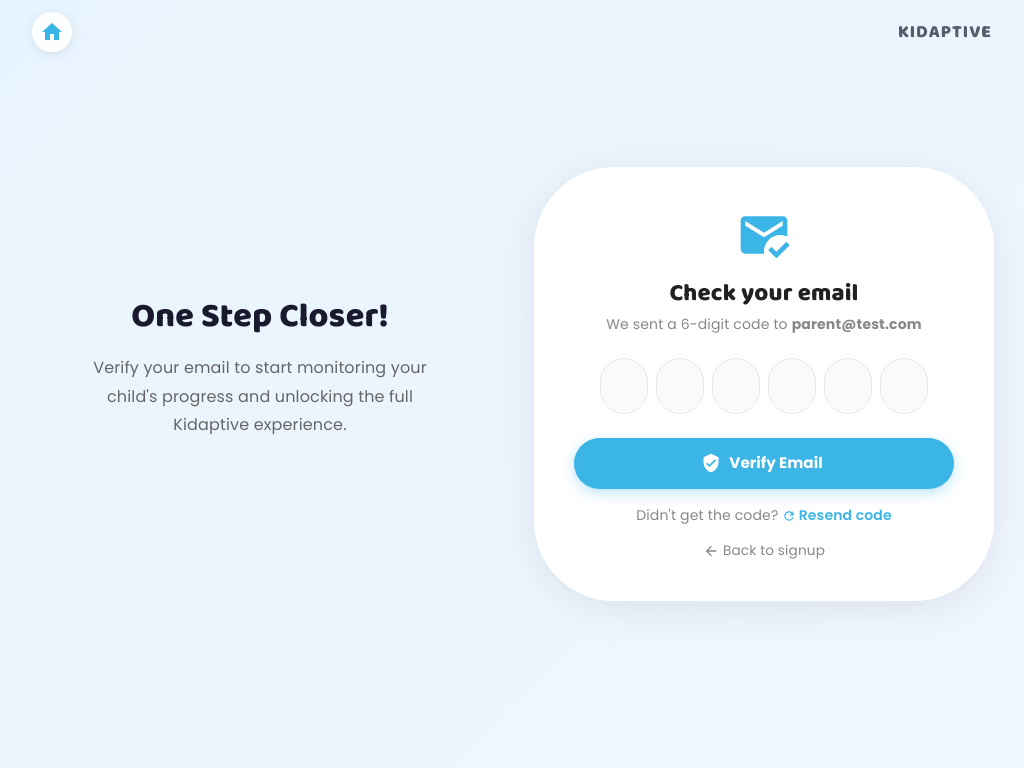
it: VerifyEmailPage › shows remaining attempts when OTP is wrong
Type "9" into the 1st field.
click(624, 386); type("9")  # box [600,358,648,414]
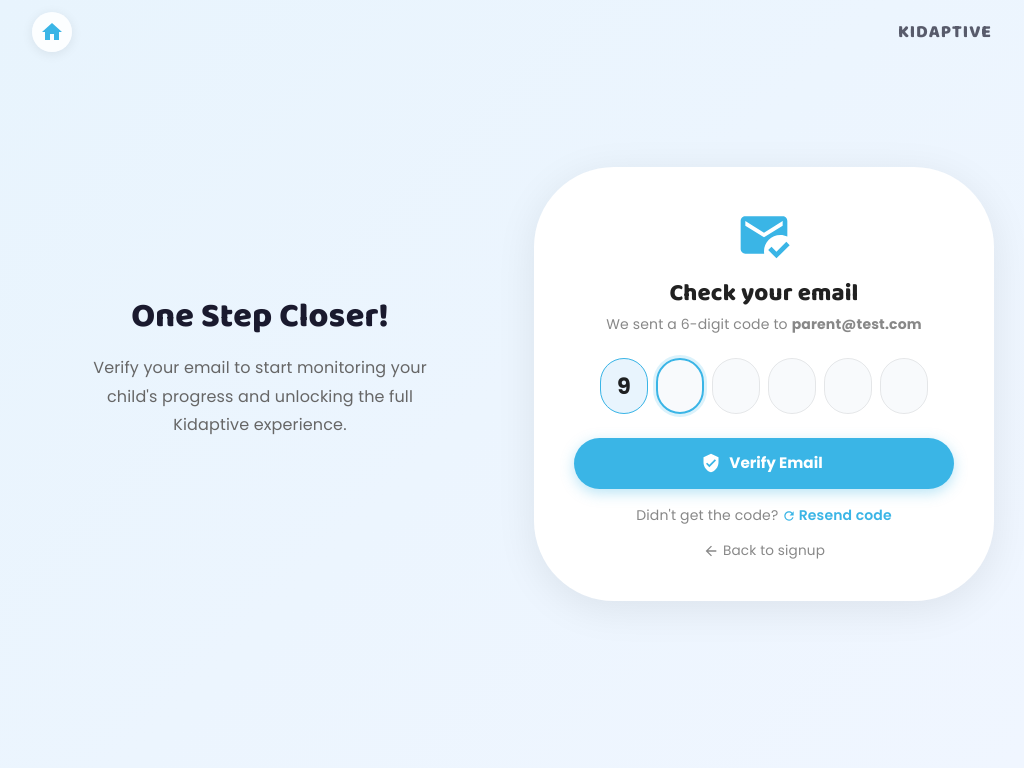
Type "9" into the 2nd field.
click(680, 386); type("9")  # box [656,358,704,414]
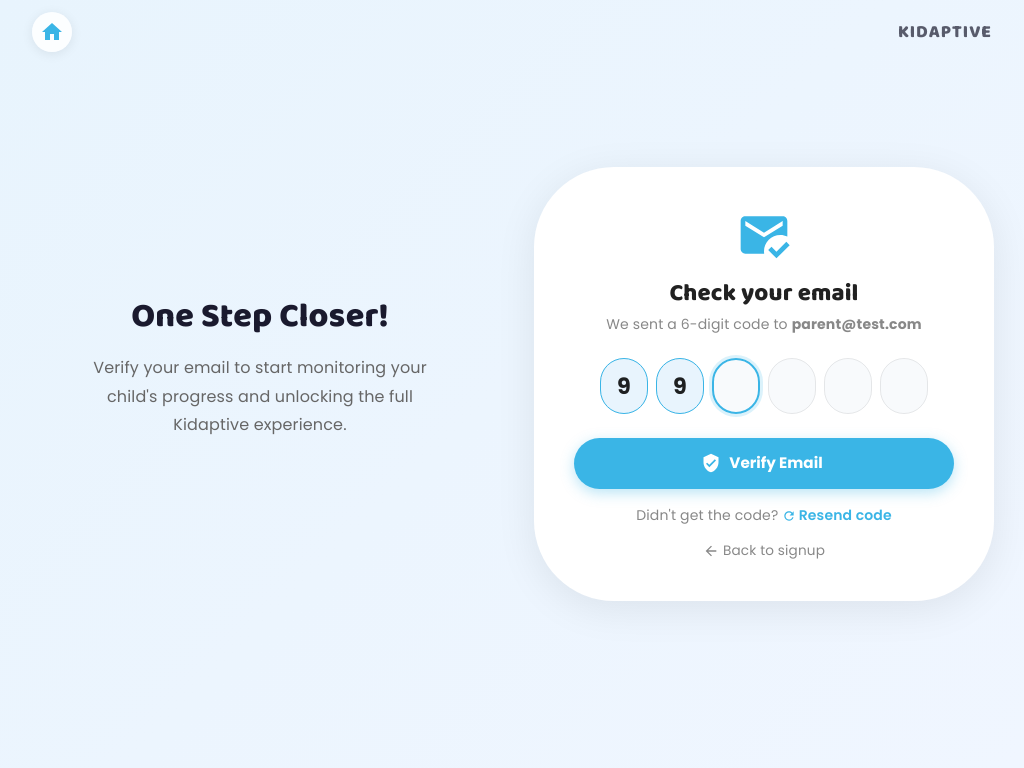
Type "9" into the 3rd field.
click(736, 386); type("9")  # box [712,358,760,414]
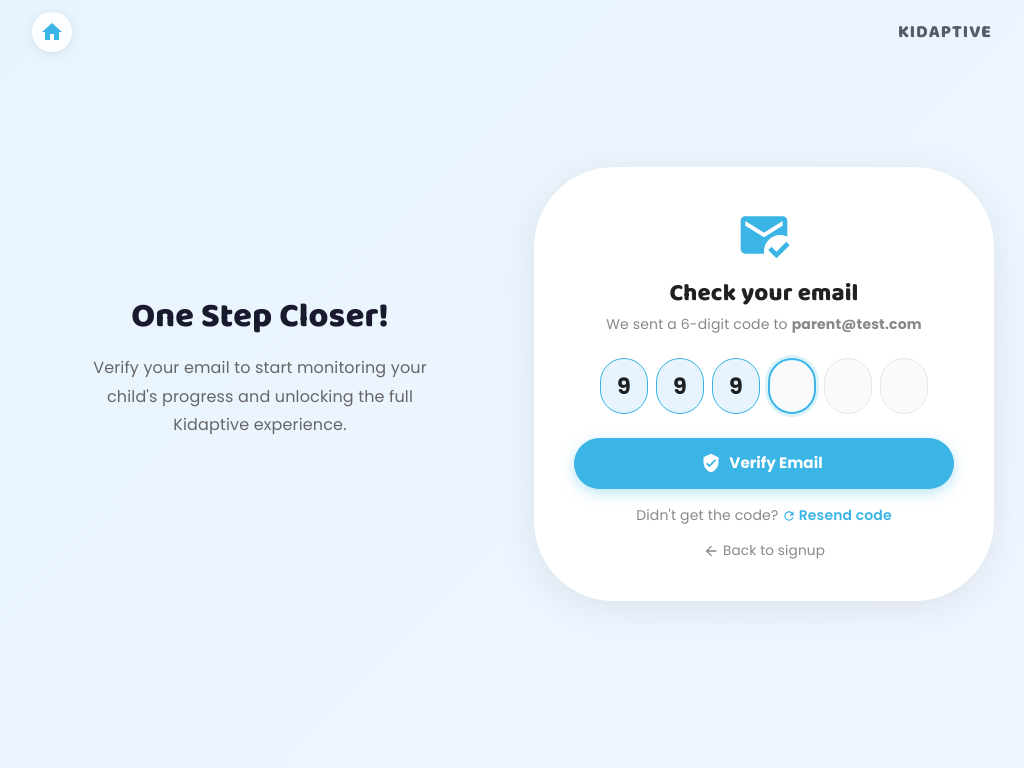
Type "9" into the 4th field.
click(792, 386); type("9")  # box [768,358,816,414]
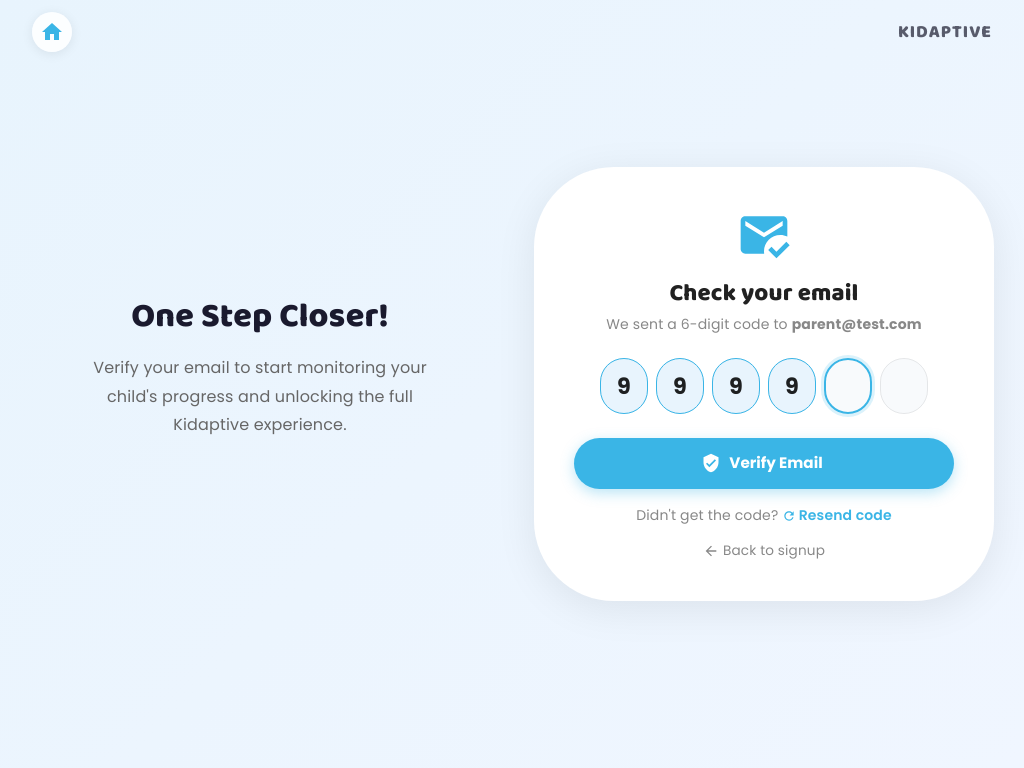
Type "9" into the 5th field.
click(848, 386); type("9")  # box [824,358,872,414]
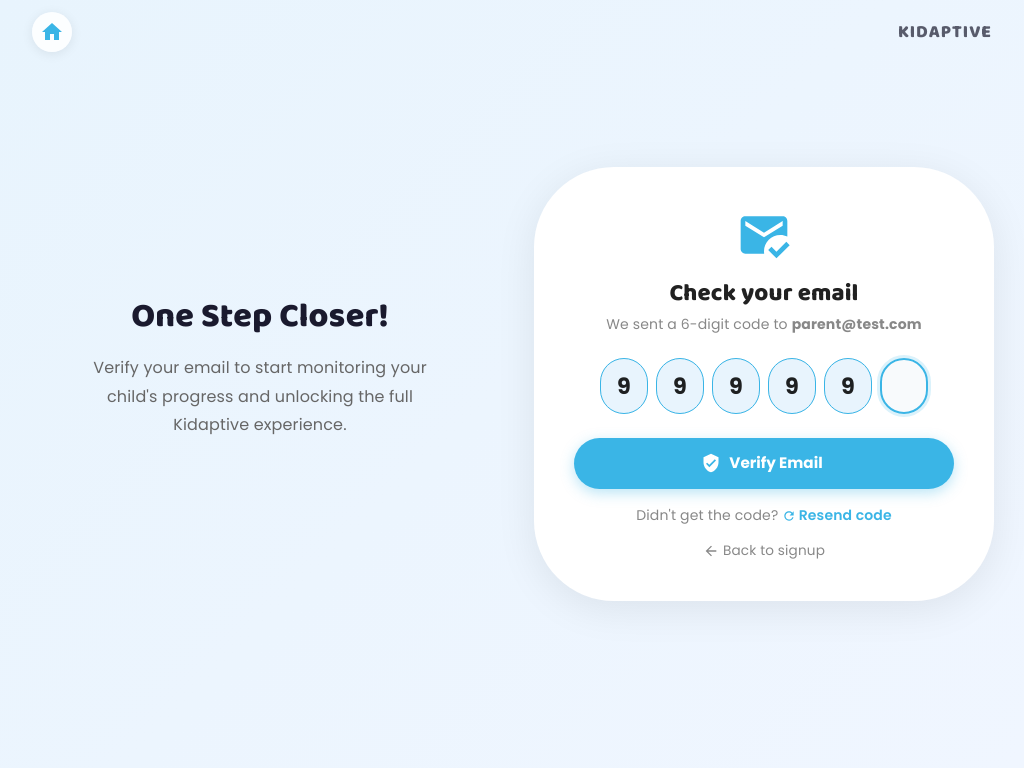
Type "9" into the 6th field.
click(904, 386); type("9")  # box [880,358,928,414]
Click the button "Verify Email".
click(764, 463)  # box [574,438,954,489]
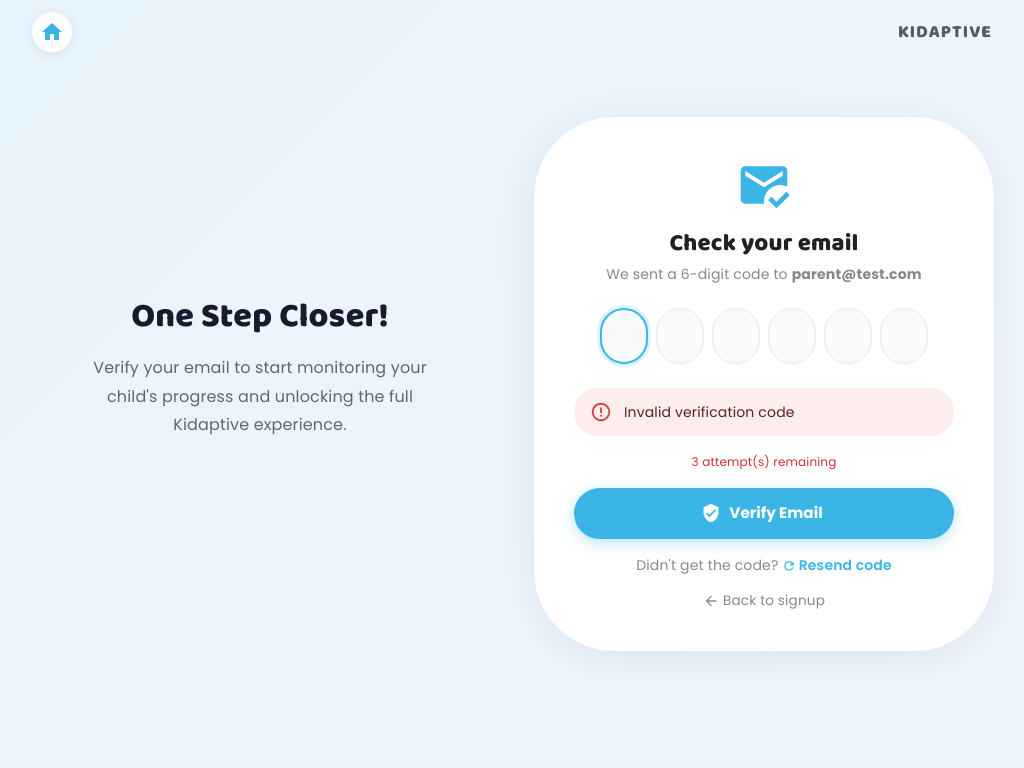
Check: the text "3 attempt(s) remaining" is shown, box [692,453,836,470]
